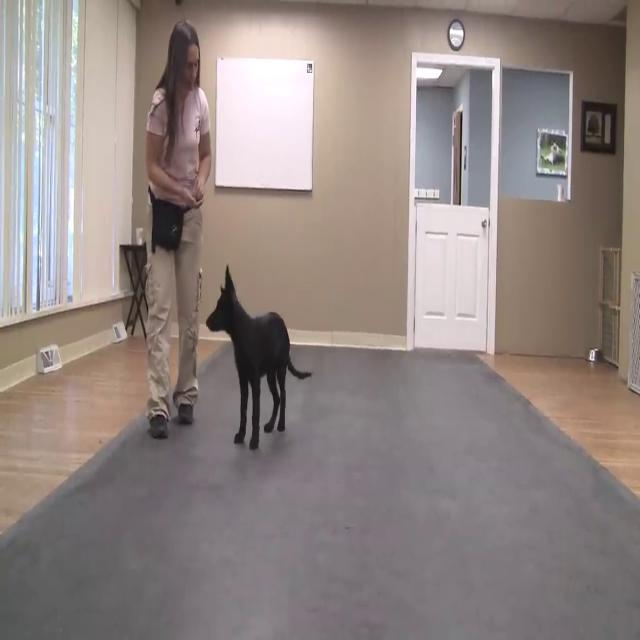Unleashed_Dog: (161, 210, 315, 452)
